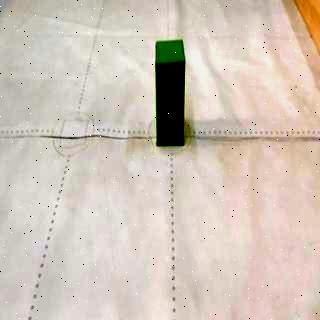greenbox: (156, 42, 186, 145)
